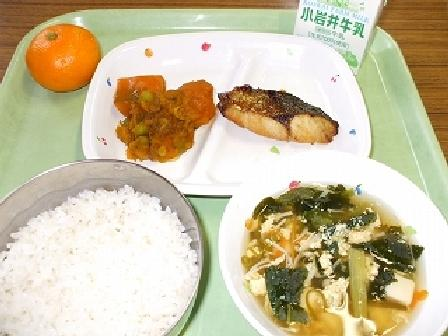Citrus: (22, 24, 107, 97)
Fish: (223, 65, 342, 154)
Milk: (285, 0, 396, 71)
Rice: (1, 162, 207, 335)
vegetable based cooked food: (98, 66, 225, 172)
vegetable soup: (232, 162, 447, 335)
